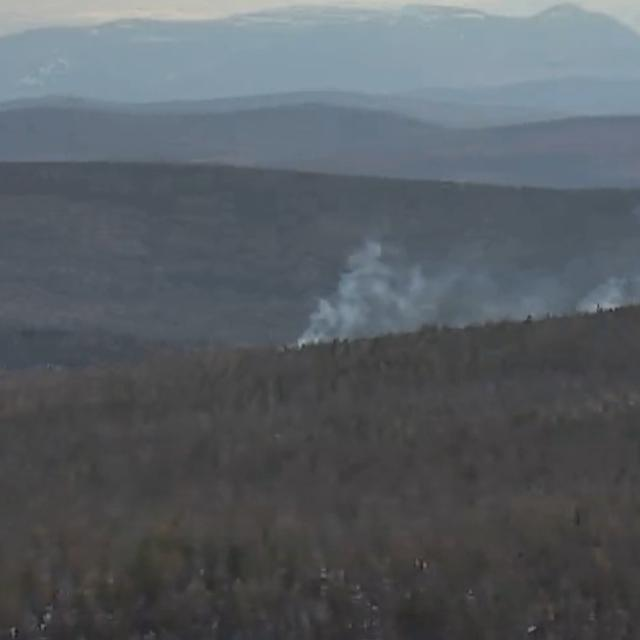Smoke: (297, 240, 640, 340)
